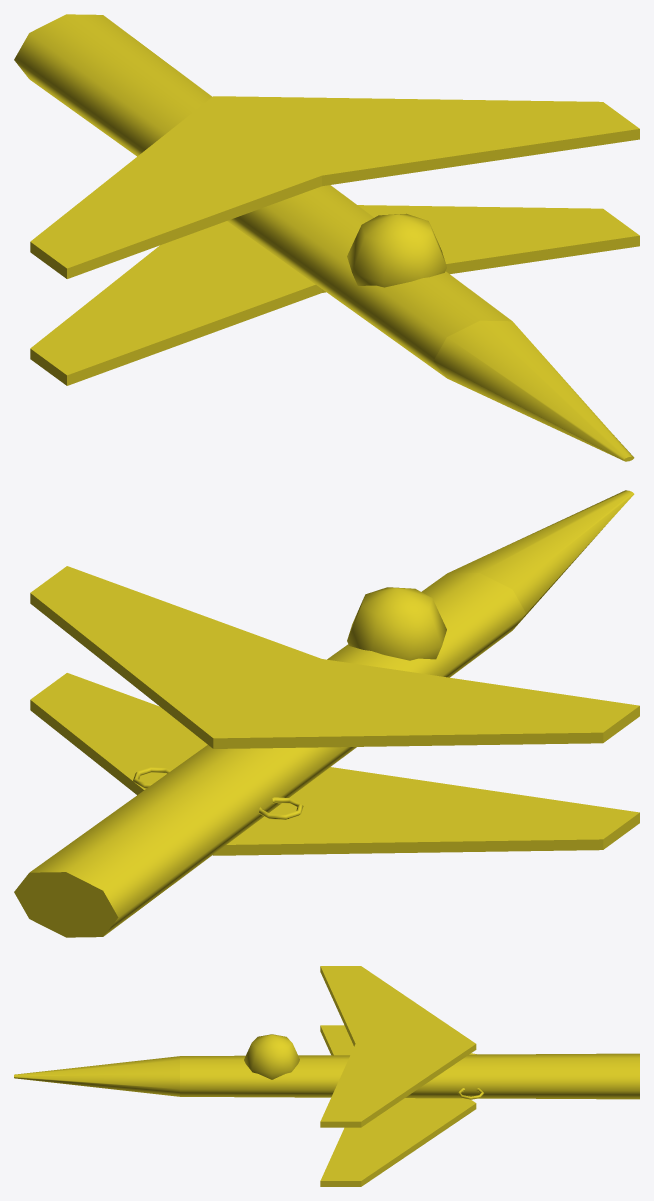
File: fighter-interceptor-2.glb
3 views of the same model, one above another, from view 1: azimuth 30°, elevation 25°; view 2: azimuth 150°, elevation 25°; view 3: azimuth 270°, elevation 25° (orthographic). The views are drawn at different scales.
Size of the model in its own units: 1.17 by 0.2592 by 1.99.
